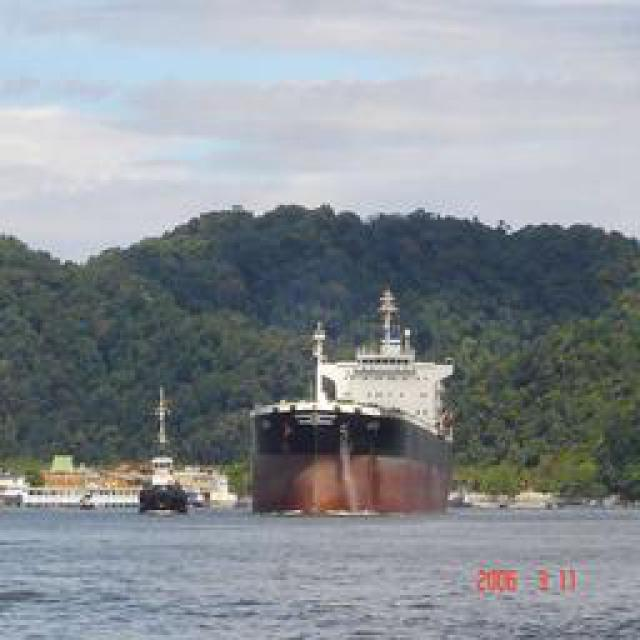Ship: (254, 284, 457, 514)
